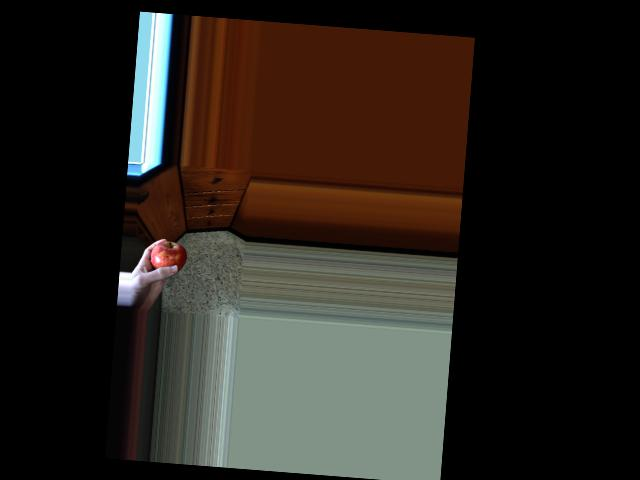apple: (144, 237, 188, 281)
